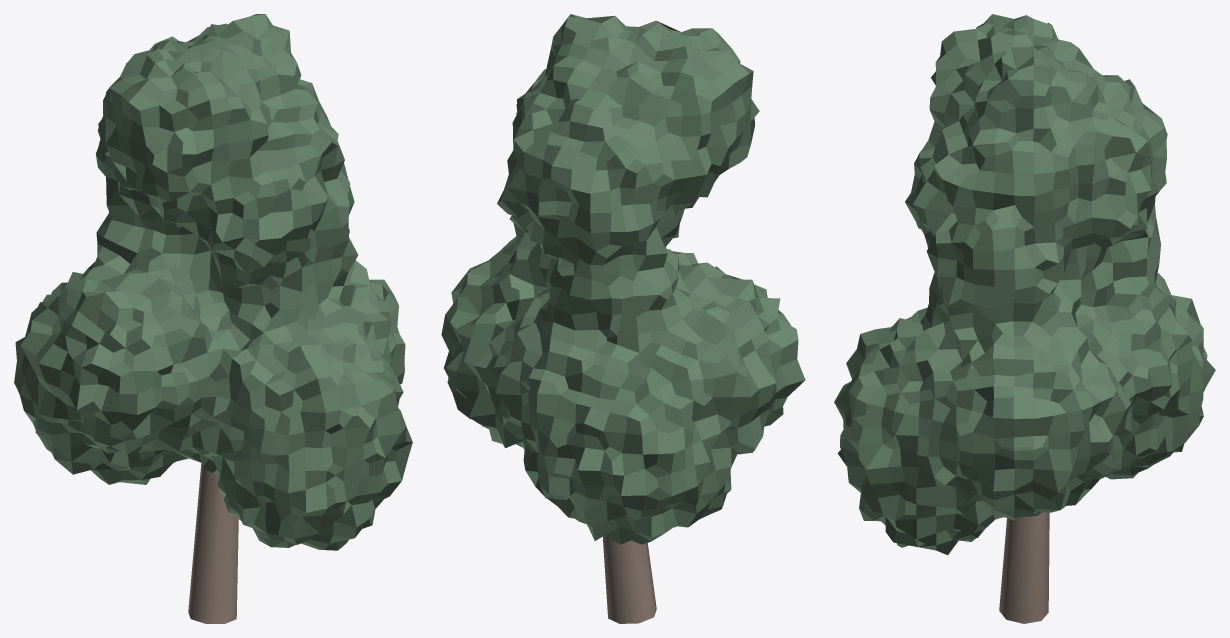
Rendered from SM_Juniper_A.fbx.
3 renders of one model, left to right at view 1: azimuth 30°, elevation 25°; view 2: azimuth 150°, elevation 25°; view 3: azimuth 270°, elevation 25°, orthographic.
Visible parts, largest first — view 1: SM_Juniper_A; view 2: SM_Juniper_A; view 3: SM_Juniper_A.
Boxes of the visible parts, x1=… form: SM_Juniper_A: x1=14, y1=14, x2=412, y2=623; SM_Juniper_A: x1=441, y1=14, x2=805, y2=623; SM_Juniper_A: x1=834, y1=14, x2=1215, y2=623.
Bounding box in the file's own units: 431 × 721 × 431.
